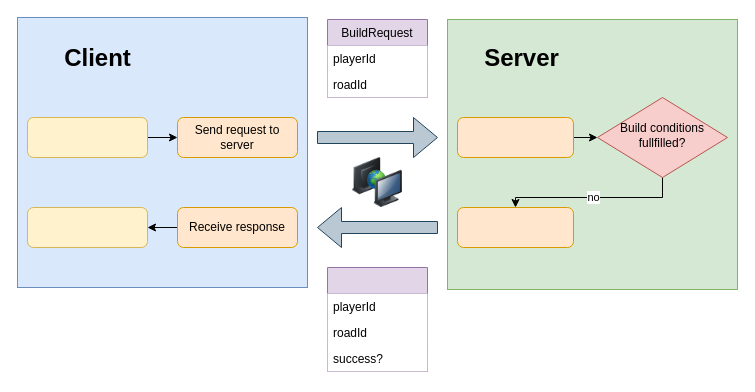
Some shapes in this 755 by 392 pixel diagram are drawn without their labels. Here are the shapes that lost their labels. From the top down, the box of each, then its label:
(26, 116, 148, 158): User selects road to build
(456, 116, 574, 158): Receive request
(26, 206, 148, 248): Display error popup
(456, 206, 574, 248): Send error response
(326, 266, 428, 372): BuildResponse
